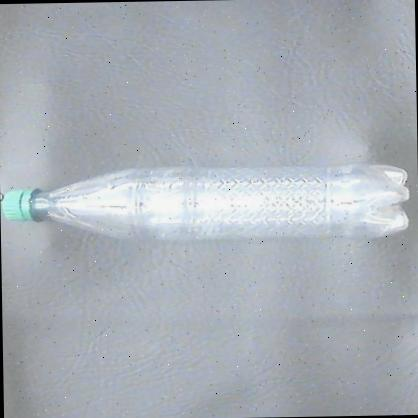bottle: (3, 159, 413, 252)
cap: (2, 184, 43, 231)
